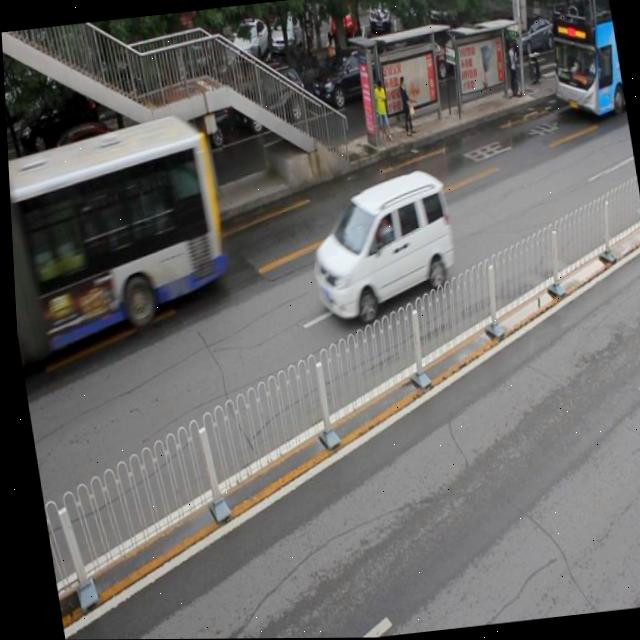car: (26, 119, 128, 204), (127, 97, 232, 176), (309, 48, 398, 127), (234, 65, 315, 139), (6, 156, 20, 216)
truck: (294, 164, 461, 326)
van: (4, 108, 238, 371), (537, 0, 626, 125)
